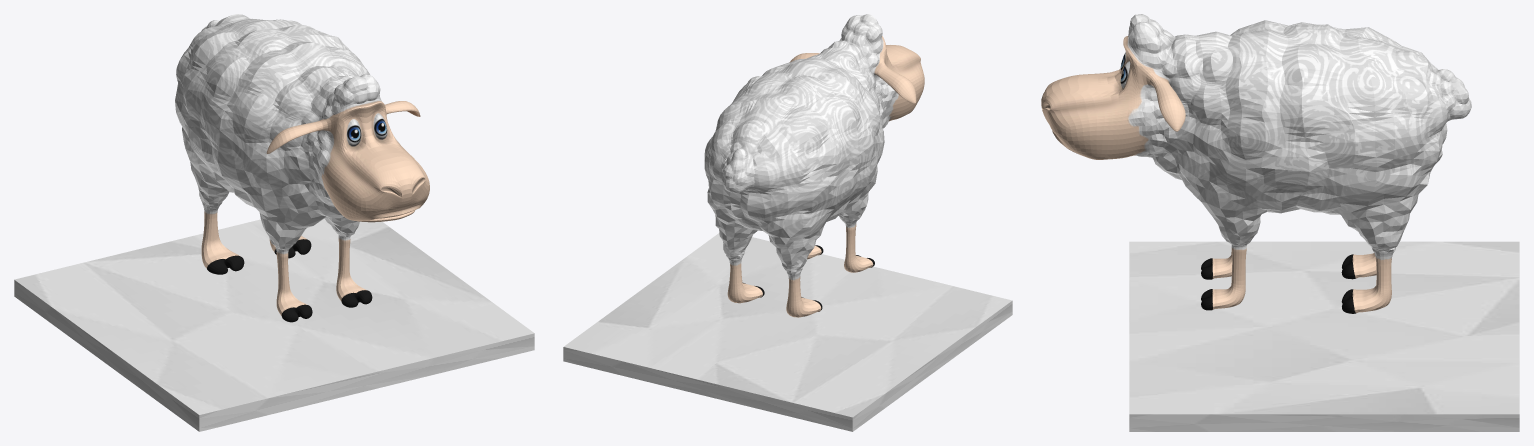
The model's file is oveja.DAE.
The picture shows the model from 3 angles, left to right: view 1: azimuth 30°, elevation 25°; view 2: azimuth 150°, elevation 25°; view 3: azimuth 270°, elevation 25°; orthographic projection. The views are drawn at different scales.
Parts seen in each view (by area): view 1: Box001, Sheep; view 2: Box001, Sheep; view 3: Box001, Sheep.
Part boxes in pixels (x1,y1,x2,y2): Box001: [14, 218, 534, 431]; Sheep: [175, 14, 429, 322]; Box001: [563, 233, 1012, 431]; Sheep: [704, 14, 924, 317]; Box001: [1129, 241, 1519, 431]; Sheep: [1041, 14, 1471, 313].
Size of the model in its own units: 137 by 160 by 121.
Materials: 2 (2 with a texture image).
